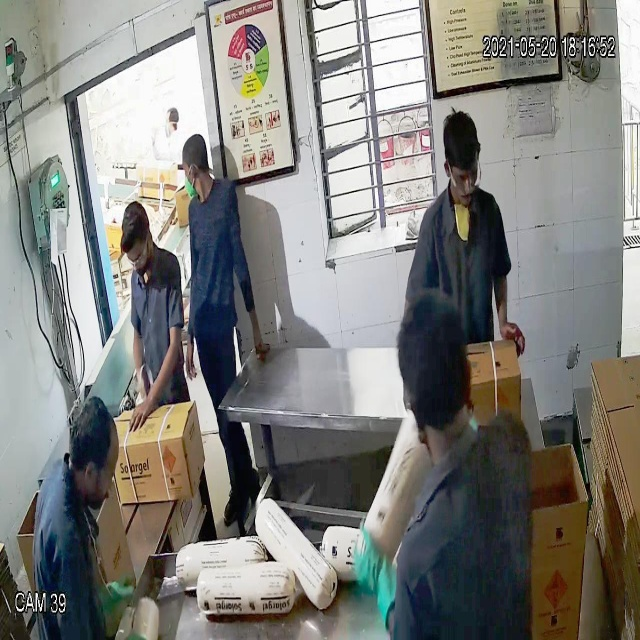Gafas: (439, 147, 488, 196)
